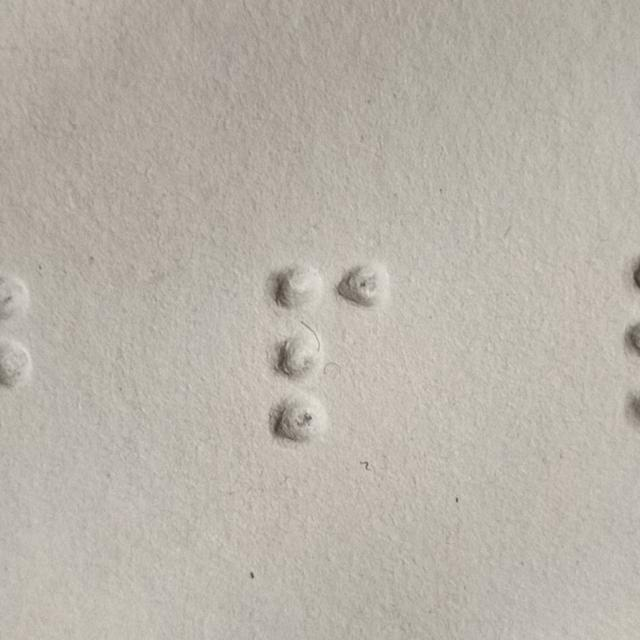one_cell_alphabet_para: (274, 262, 387, 439)
